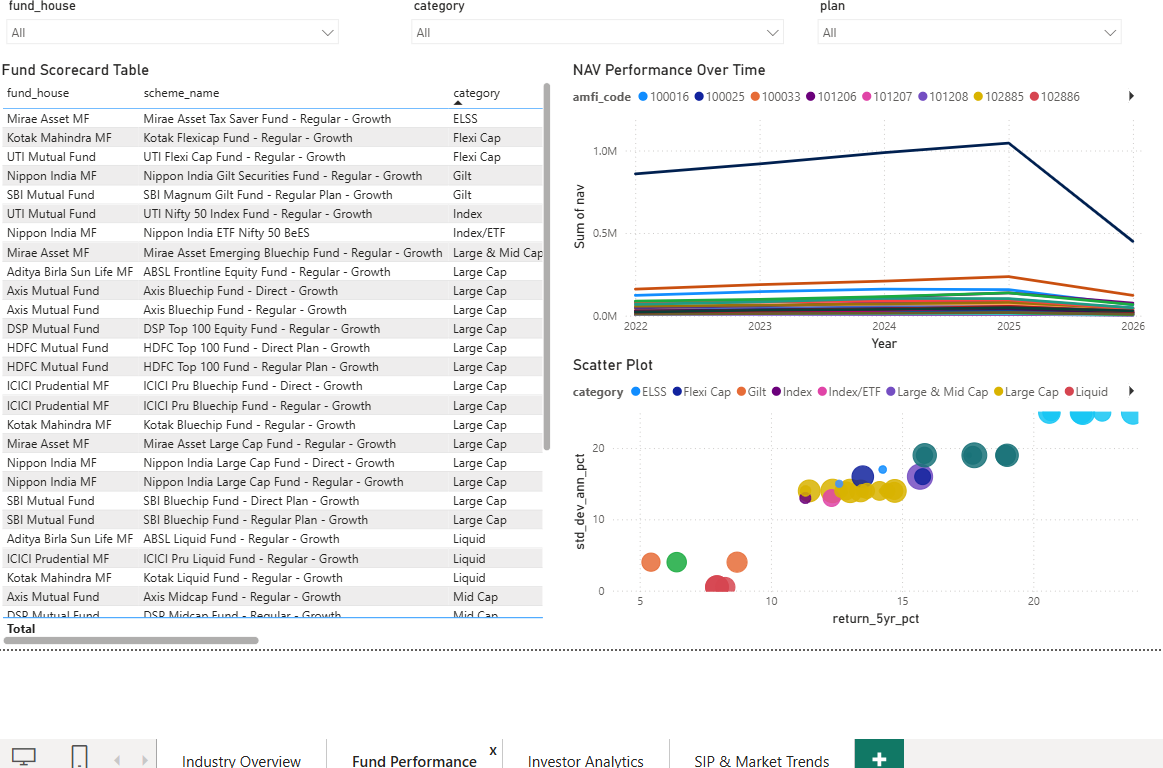

This screenshot's page, from the dashboard's own definition file:
{"tool":"powerbi","page":{"name":"Fund Performance","canvas":[1280,720],"ordinal":1},"visuals":[{"type":"scatterChart","title":"Scatter Plot","fields":{"X":["07_performance_clean.return_5yr_pct"],"Y":["07_performance_clean.std_dev_ann_pct"],"Size":["Sum(07_performance_clean.aum_crore)"],"Series":["07_performance_clean.category"]},"box":[627.1,397.9,638.1,301.9],"z":0},{"type":"tableEx","title":"Fund Scorecard Table","fields":{"Values":["07_performance_clean.fund_house","07_performance_clean.scheme_name","07_performance_clean.category","Sum(07_performance_clean.alpha)","Sum(07_performance_clean.max_drawdown_pct)","Sum(07_performance_clean.sharpe_ratio)","Sum(07_performance_clean.return_5yr_pct)","Sum(07_performance_clean.aum_crore)"]},"box":[0,74.1,613.4,646.3],"z":1000},{"type":"slicer","fields":{"Values":["07_performance_clean.fund_house"]},"box":[0,0,385.6,74.1],"z":2000},{"type":"lineChart","title":"NAV Performance Over Time","fields":{"Category":["02_nav_history_clean.date.Variation.Date Hierarchy.Year","02_nav_history_clean.date.Variation.Date Hierarchy.Quarter","02_nav_history_clean.date.Variation.Date Hierarchy.Month","02_nav_history_clean.date.Variation.Date Hierarchy.Day"],"Y":["Sum(02_nav_history_clean.nav)"],"Series":["02_nav_history_clean.amfi_code"]},"box":[627.1,74.1,638.1,323.8],"z":3000},{"type":"slicer","fields":{"Values":["07_performance_clean.category"]},"box":[444.6,0,429.5,74.1],"z":4000},{"type":"slicer","fields":{"Values":["07_performance_clean.plan"]},"box":[890.6,0,354,74.1],"z":5000}]}

Visuals, with their boxes on the page's 1280x720 design canvas (x1, y1, x2, y2). These are canvas units, not pixel positions in the 1163x768 screenshot, which may show the page scaled, cropped or inside an application window:
"Scatter Plot" scatterChart: bbox=(627, 398, 1265, 700)
"Fund Scorecard Table" tableEx: bbox=(0, 74, 613, 720)
slicer - 07_performance_clean.fund_house: bbox=(0, 0, 386, 74)
"NAV Performance Over Time" lineChart: bbox=(627, 74, 1265, 398)
slicer - 07_performance_clean.category: bbox=(445, 0, 874, 74)
slicer - 07_performance_clean.plan: bbox=(891, 0, 1245, 74)
